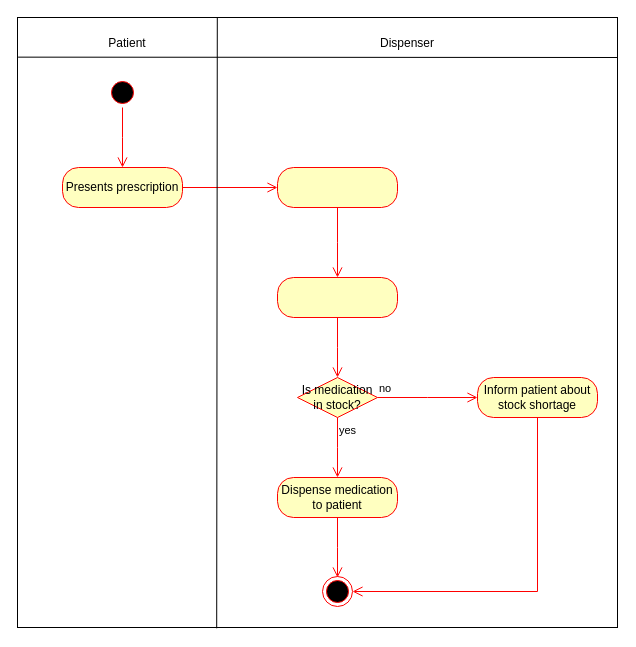
Some shapes in this 636 by 647 pixel diagram are drawn without their labels. Each missing label, with the centre of its shape:
Checks prescription: (337,187)
Locate medication in inventory: (337,297)
